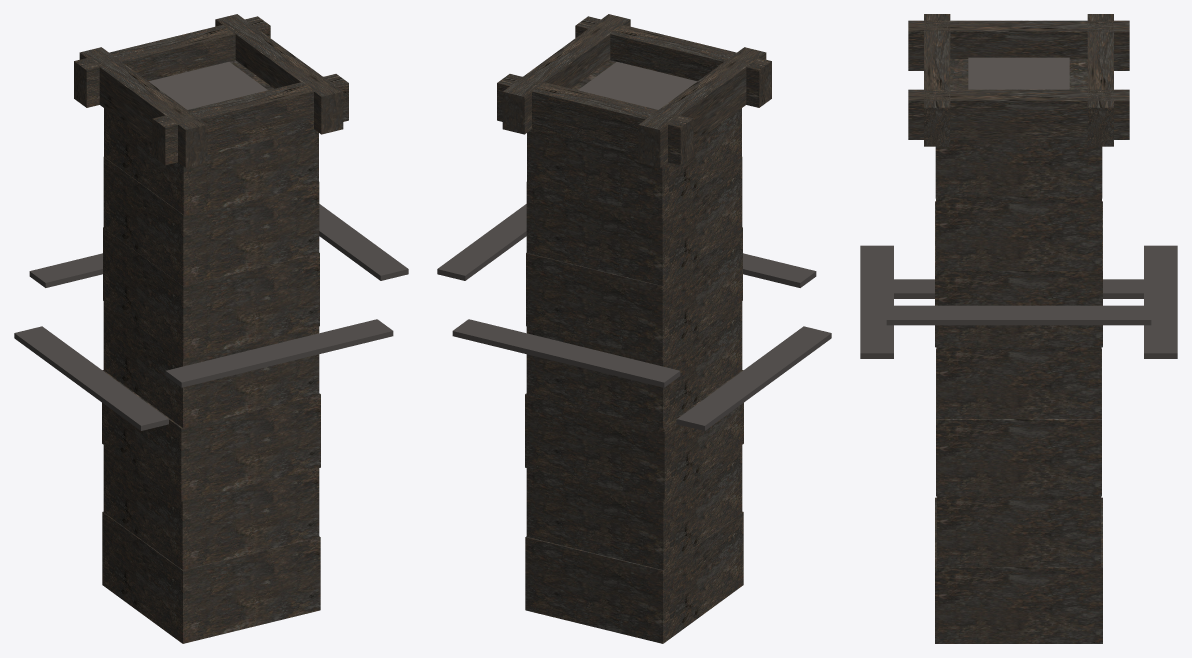
The model's file is blacksmith_chimney_candidate_preview.glb.
3 views of the same model, side by side, from view 1: azimuth 30°, elevation 25°; view 2: azimuth 150°, elevation 25°; view 3: azimuth 270°, elevation 25° (orthographic). The views are drawn at different scales.
Parts seen in each view (by area): view 1: GENESIS_BATCH_Blacksmith chimney · soot-blackened masonr, GENESIS_BATCH_Blacksmith chimney · oxidized quarrystone, GENESIS_BATCH_Oxidized forged iron, GENESIS_BATCH_Recessed stone mortar / dark; view 2: GENESIS_BATCH_Blacksmith chimney · soot-blackened masonr, GENESIS_BATCH_Blacksmith chimney · oxidized quarrystone, GENESIS_BATCH_Oxidized forged iron, GENESIS_BATCH_Recessed stone mortar / dark; view 3: GENESIS_BATCH_Blacksmith chimney · soot-blackened masonr, GENESIS_BATCH_Blacksmith chimney · oxidized quarrystone, GENESIS_BATCH_Oxidized forged iron, GENESIS_BATCH_Recessed stone mortar / dark.
Boxes of the visible parts, box(x1,y1,x2,y2) form: GENESIS_BATCH_Blacksmith chimney · soot-blackened masonr: box(74, 14, 348, 569); GENESIS_BATCH_Blacksmith chimney · oxidized quarrystone: box(102, 60, 320, 643); GENESIS_BATCH_Oxidized forged iron: box(14, 204, 408, 430); GENESIS_BATCH_Recessed stone mortar / dark: box(148, 62, 267, 109); GENESIS_BATCH_Blacksmith chimney · soot-blackened masonr: box(497, 14, 771, 569); GENESIS_BATCH_Blacksmith chimney · oxidized quarrystone: box(525, 60, 743, 643); GENESIS_BATCH_Oxidized forged iron: box(437, 204, 831, 430); GENESIS_BATCH_Recessed stone mortar / dark: box(578, 62, 697, 109); GENESIS_BATCH_Blacksmith chimney · soot-blackened masonr: box(908, 14, 1129, 567); GENESIS_BATCH_Blacksmith chimney · oxidized quarrystone: box(935, 59, 1102, 643); GENESIS_BATCH_Oxidized forged iron: box(860, 245, 1177, 358); GENESIS_BATCH_Recessed stone mortar / dark: box(968, 57, 1069, 89).
Size of the model in its own units: 1.34 by 2.51 by 1.32.
Materials: 4 (2 with a texture image).
